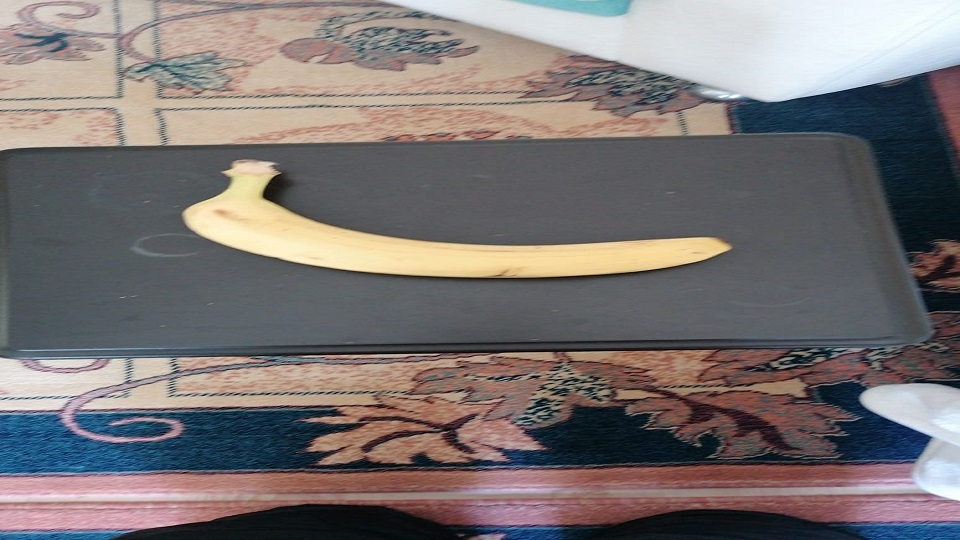muz: (180, 160, 732, 281)
